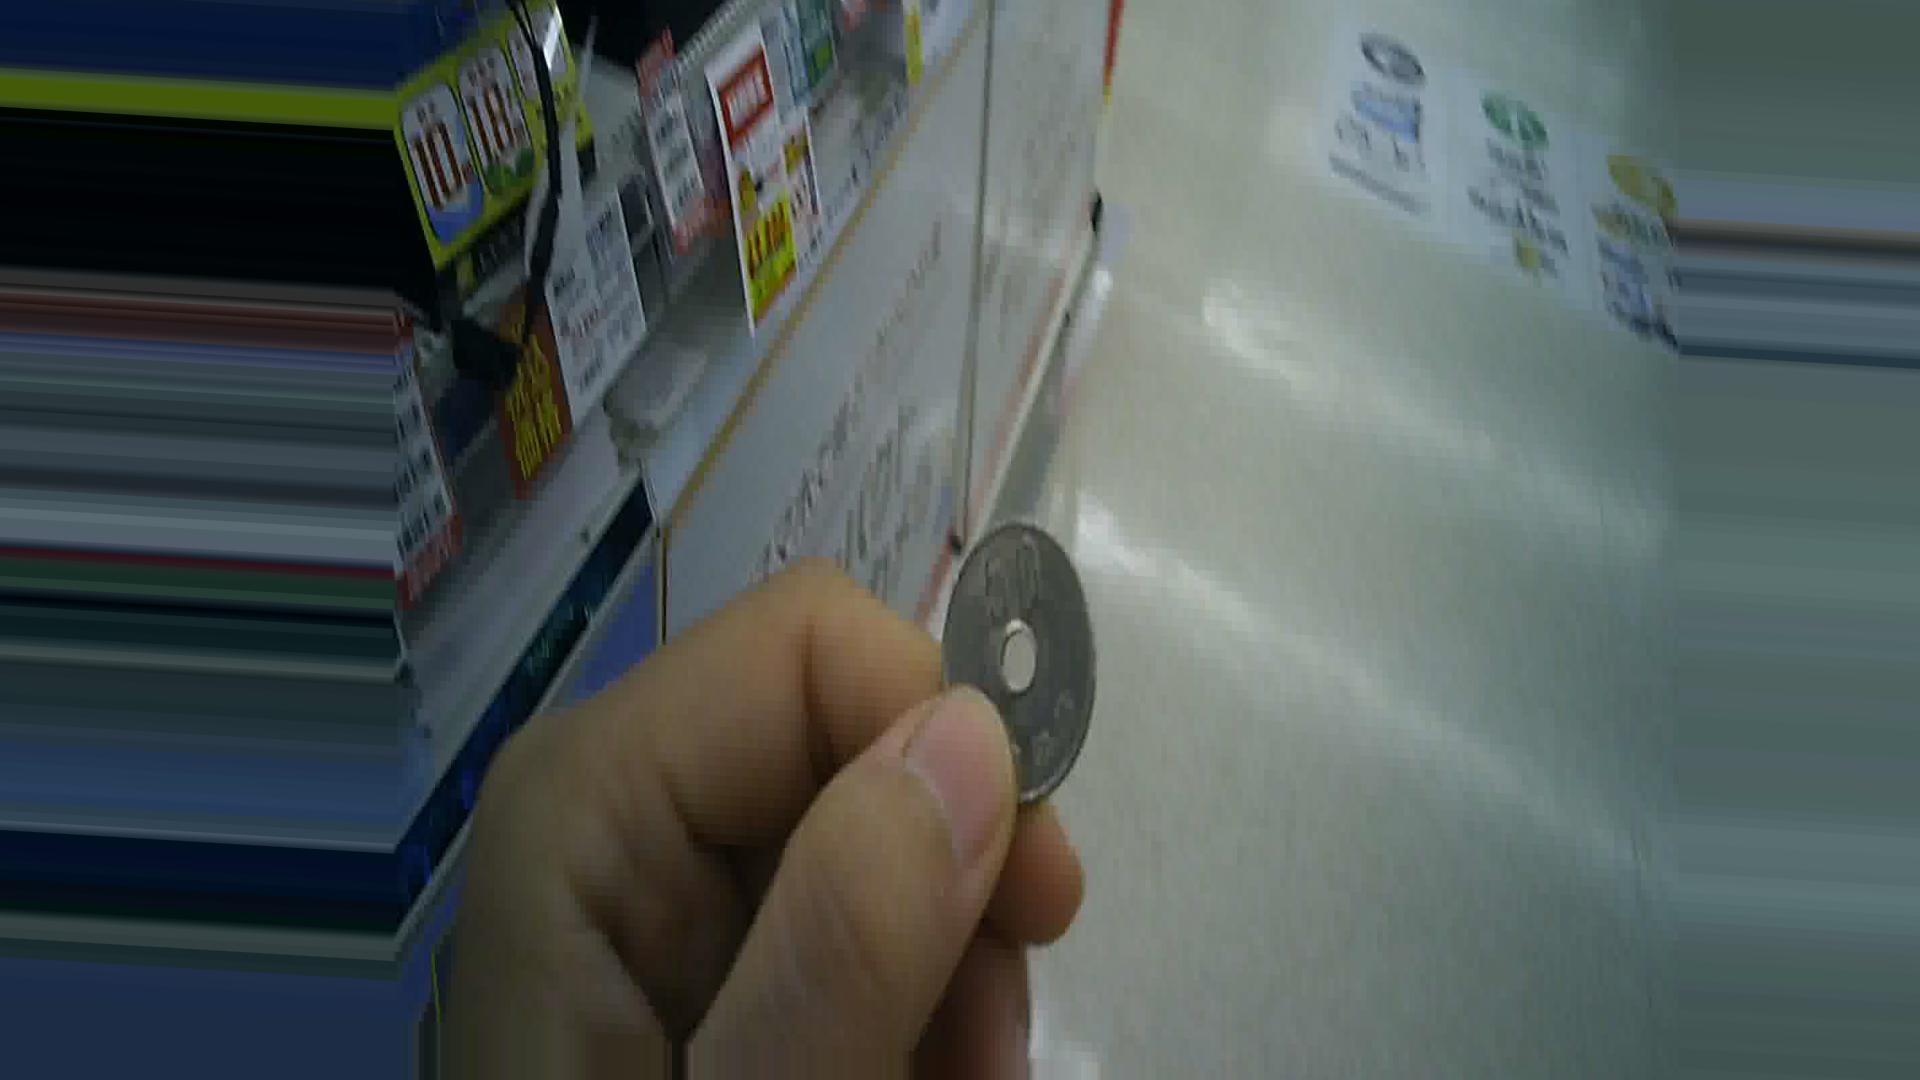50 Yen: (939, 524, 1113, 812)
